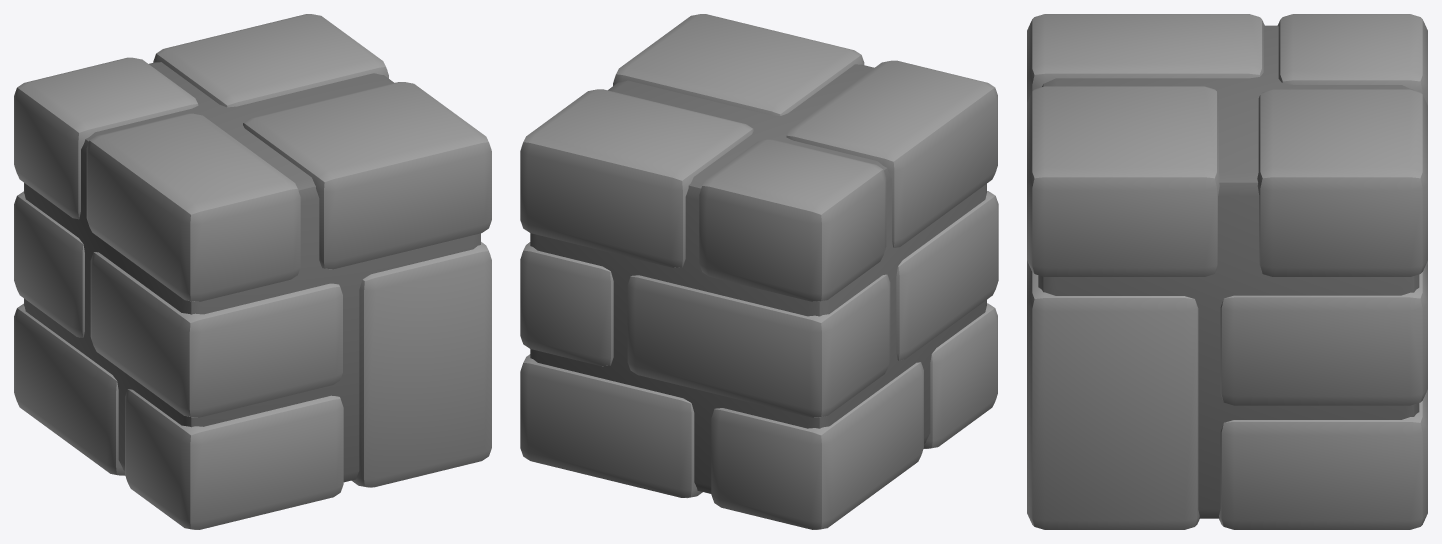
Rendered from floor.obj.
The picture shows the model from 3 angles, left to right: view 1: azimuth 30°, elevation 25°; view 2: azimuth 150°, elevation 25°; view 3: azimuth 270°, elevation 25°; orthographic projection. The views are drawn at different scales.
Parts seen in each view (by area): view 1: Block_GreyBricks; view 2: Block_GreyBricks; view 3: Block_GreyBricks.
Part boxes in pixels (left/top/right/bottom): Block_GreyBricks: left=14, top=14, right=491, bottom=529; Block_GreyBricks: left=520, top=14, right=998, bottom=529; Block_GreyBricks: left=1027, top=14, right=1427, bottom=529.
Bounding box in the file's own units: 1 × 1.01 × 1.01.
1 material, 1 textured.
